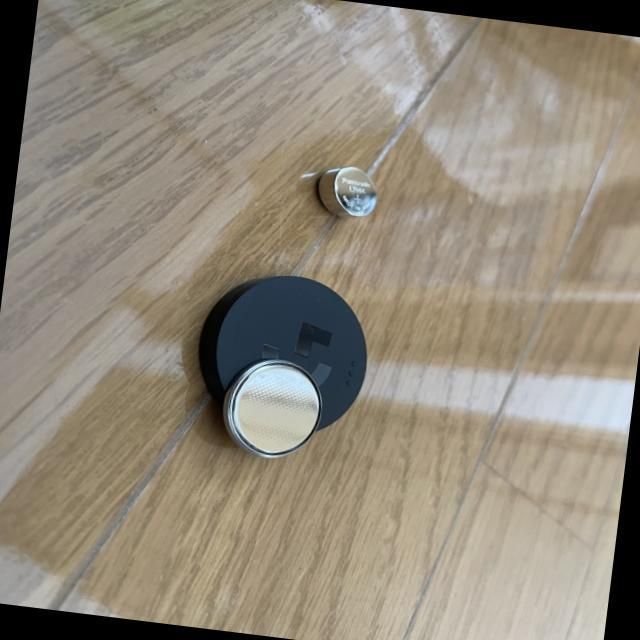COIN: (215, 352, 326, 463), (312, 162, 380, 220)
